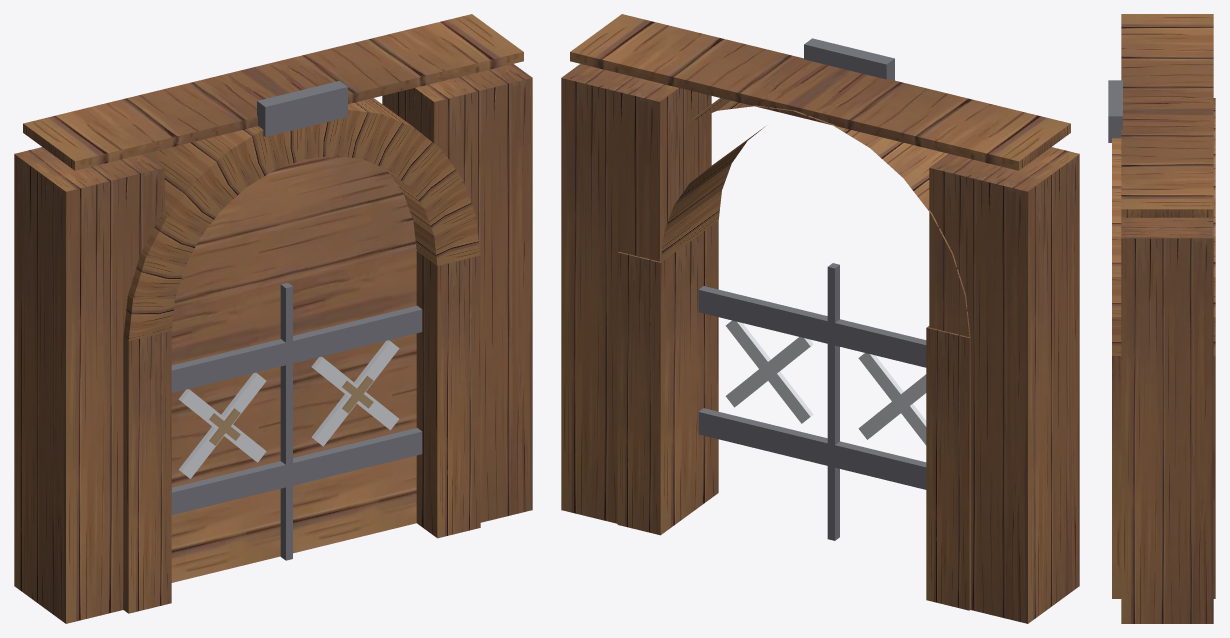
The model's file is arena_gate.glb.
3 views of the same model, side by side, from view 1: azimuth 30°, elevation 25°; view 2: azimuth 150°, elevation 25°; view 3: azimuth 270°, elevation 25° (orthographic). The views are drawn at different scales.
Visible parts, largest first — view 1: gate; view 2: gate; view 3: gate.
Part boxes in pixels (<box>): gate: <box>14,14,532,623</box>; gate: <box>561,14,1079,623</box>; gate: <box>1108,14,1215,623</box>.
Bounding box in the file's own units: 2.6 × 2.53 × 0.58.
5 materials, 2 textured.
